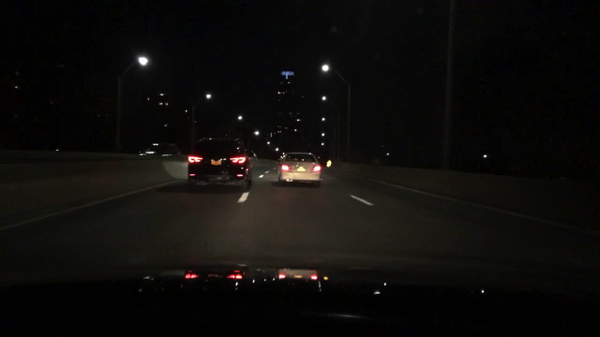car: (189, 135, 251, 190), (275, 153, 322, 184), (139, 143, 181, 157), (247, 152, 260, 158)
